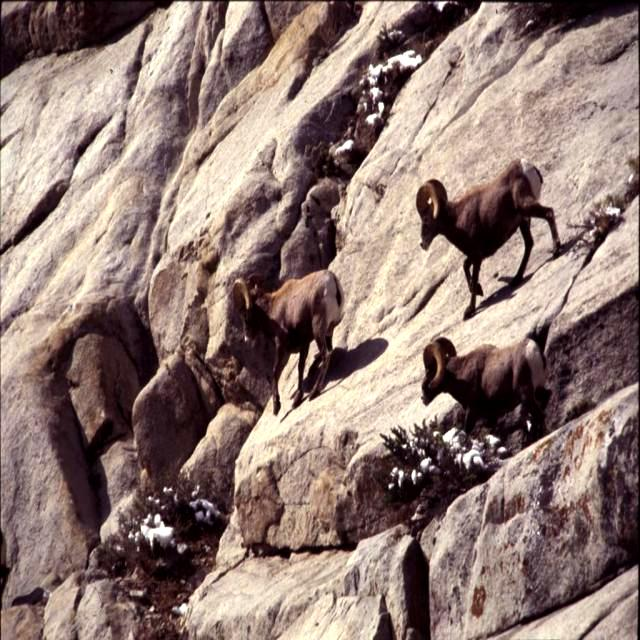sheep: (415, 159, 557, 319), (233, 272, 343, 413), (420, 335, 548, 441)
